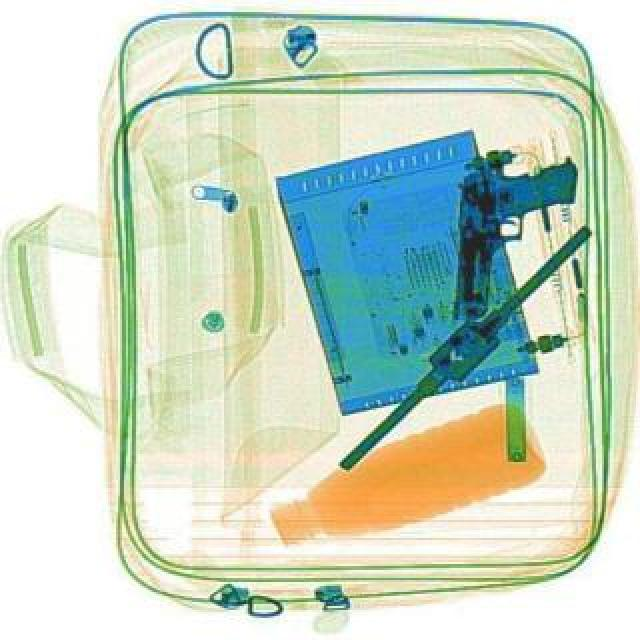gun: (448, 144, 578, 322)
